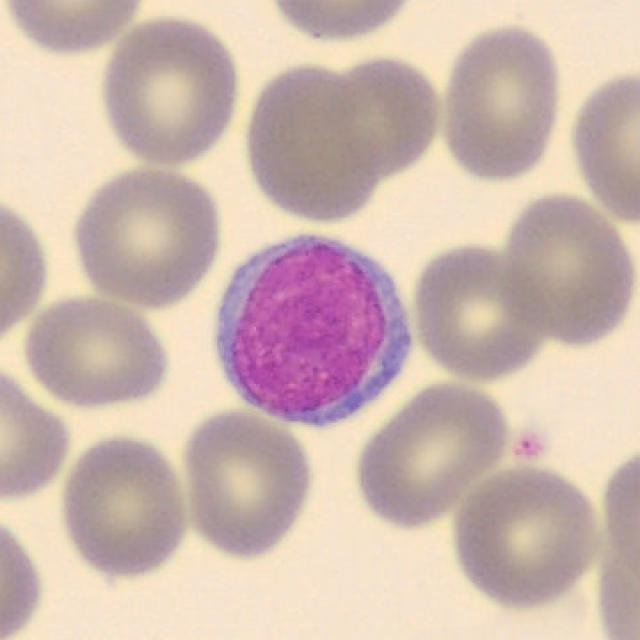Linfocito: (213, 236, 412, 428)
